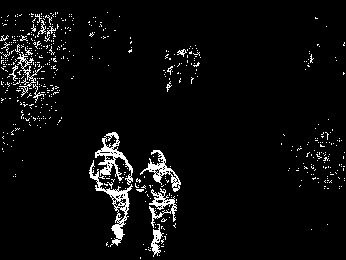person: (90, 130, 134, 247), (136, 149, 181, 257)
